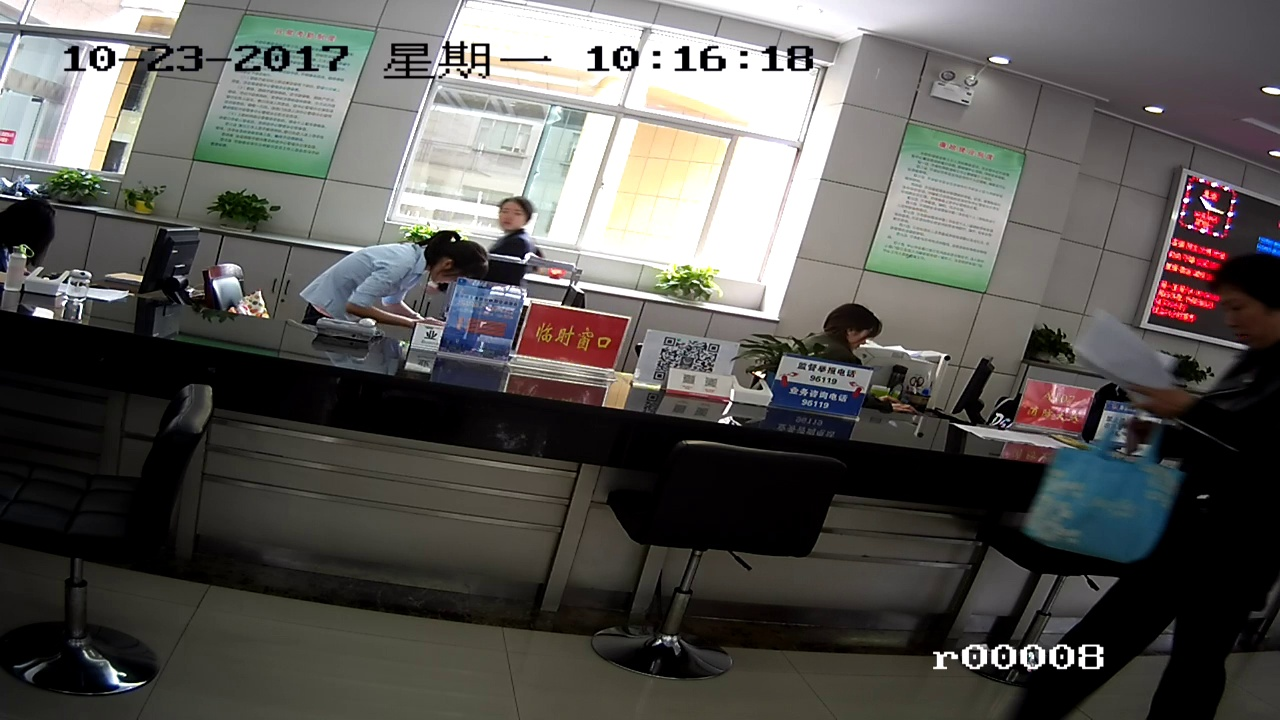billboard: (220, 17, 336, 185), (897, 116, 996, 288), (774, 357, 866, 415), (522, 304, 608, 360)
chair: (31, 388, 207, 701), (610, 433, 829, 680)
monitor: (152, 230, 198, 309)
person: (1208, 242, 1280, 596), (332, 228, 484, 301), (817, 300, 888, 363), (492, 201, 537, 281)
pot: (206, 186, 272, 232), (657, 267, 714, 309), (48, 167, 94, 206), (125, 188, 160, 218)
